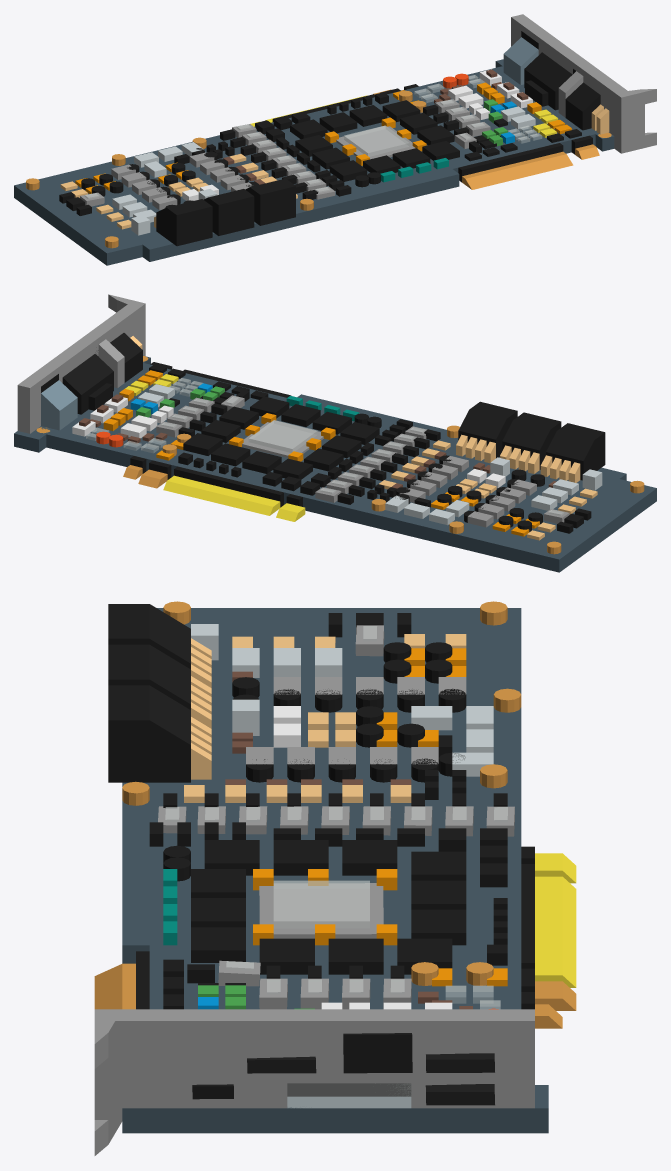
Rendered from circuit-board.glb.
3 views of the same model, one above another, from view 1: azimuth 30°, elevation 25°; view 2: azimuth 150°, elevation 25°; view 3: azimuth 270°, elevation 25° (orthographic). The views are drawn at different scales.
Parts seen in each view (by area): view 1: group961308457, group1405846876, group846730335, group780358200, group1144322846, group826270771, group46819945, group360384311, group473190160, group437365950, group203488555, group1388667676 (+19 smaller); view 2: group961308457, group254376446, group360384311, group861566618, group473190160, group1513412840, group437365950, group675288920, group1217762277, group1865950327, group436564606, group1405846876 (+24 smaller); view 3: group961308457, group1520976645, group861566618, group360384311, group80341454, group1477908798, group437365950, group254376446, group1405846876, group46819945, group1217762277, group983020740 (+37 smaller).
Part boxes in pixels (x1=…): group961308457: x1=14, y1=66, x2=598, y2=265; group1405846876: x1=142, y1=169, x2=459, y2=261; group846730335: x1=614, y1=89, x2=644, y2=153; group780358200: x1=166, y1=199, x2=212, y2=246; group1144322846: x1=462, y1=151, x2=573, y2=189; group826270771: x1=208, y1=189, x2=254, y2=235; group46819945: x1=250, y1=178, x2=295, y2=225; group360384311: x1=336, y1=126, x2=415, y2=159; group473190160: x1=524, y1=52, x2=572, y2=110; group437365950: x1=344, y1=125, x2=409, y2=156; group203488555: x1=565, y1=82, x2=600, y2=130; group1388667676: x1=458, y1=143, x2=563, y2=182; group961308457: x1=34, y1=363, x2=656, y2=572; group254376446: x1=163, y1=475, x2=280, y2=515; group360384311: x1=242, y1=420, x2=323, y2=457; group861566618: x1=17, y1=361, x2=62, y2=433; group473190160: x1=62, y1=354, x2=113, y2=414; group1513412840: x1=41, y1=380, x2=77, y2=430; group437365950: x1=248, y1=420, x2=317, y2=452; group675288920: x1=546, y1=431, x2=594, y2=480; group1217762277: x1=458, y1=409, x2=506, y2=458; group1865950327: x1=502, y1=420, x2=550, y2=469; group436564606: x1=174, y1=466, x2=283, y2=507; group1405846876: x1=297, y1=394, x2=626, y2=480; group961308457: x1=149, y1=608, x2=521, y2=1133; group1520976645: x1=163, y1=1009, x2=287, y2=1108; group861566618: x1=411, y1=1009, x2=534, y2=1108; group360384311: x1=259, y1=883, x2=383, y2=938; group80341454: x1=287, y1=1009, x2=411, y2=1083; group1477908798: x1=108, y1=1009, x2=163, y2=1108; group437365950: x1=273, y1=880, x2=369, y2=928; group254376446: x1=535, y1=876, x2=576, y2=987; group1405846876: x1=122, y1=782, x2=149, y2=963; group46819945: x1=108, y1=685, x2=149, y2=782; group1217762277: x1=149, y1=685, x2=190, y2=782; group983020740: x1=287, y1=1083, x2=411, y2=1108.
Size of the model in its own units: 0.9 by 0.09 by 0.35.
